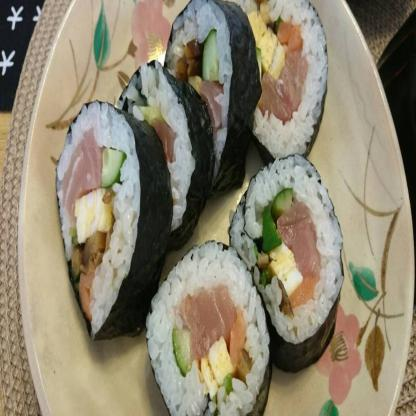futomaki: (52, 98, 174, 345)
